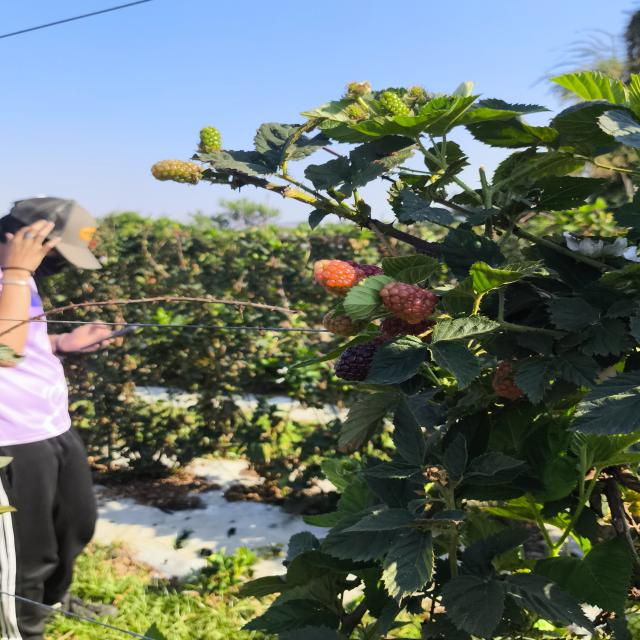maduro: (334, 336, 391, 381)
naranja: (379, 282, 438, 324), (314, 260, 365, 297), (492, 362, 524, 399), (322, 310, 367, 336)
verde: (151, 160, 201, 184), (379, 90, 409, 115), (198, 126, 221, 152)
